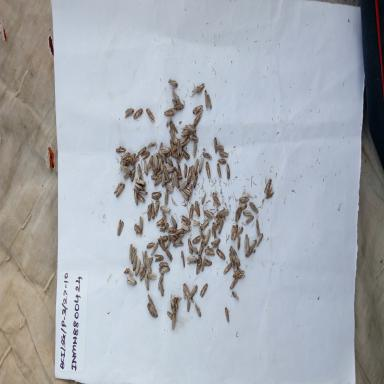pbw: (119, 151, 132, 166), (115, 218, 125, 237), (146, 105, 156, 124), (229, 245, 239, 263), (203, 226, 212, 246), (186, 163, 194, 185), (187, 180, 195, 202), (197, 240, 206, 259), (188, 282, 198, 299), (262, 177, 272, 194), (233, 266, 245, 280), (123, 106, 135, 120), (221, 262, 232, 277), (204, 161, 212, 181), (134, 258, 142, 278), (133, 222, 143, 238), (214, 206, 225, 220), (210, 237, 221, 251), (200, 216, 211, 230), (193, 200, 202, 217), (163, 166, 171, 185), (168, 128, 177, 144), (174, 164, 183, 180), (199, 282, 208, 298), (157, 234, 166, 250), (173, 236, 184, 249), (186, 255, 199, 266), (152, 151, 159, 171), (169, 214, 179, 228), (244, 246, 254, 260), (130, 152, 140, 166), (249, 199, 259, 213), (195, 257, 202, 277), (218, 217, 226, 234), (249, 237, 257, 254), (169, 119, 178, 134), (193, 112, 202, 127), (155, 216, 166, 228), (243, 214, 254, 226), (187, 132, 198, 144), (204, 247, 216, 258), (168, 232, 180, 243), (192, 103, 203, 115), (204, 208, 214, 221), (133, 108, 143, 121), (212, 191, 220, 207), (198, 225, 206, 241), (210, 222, 218, 238), (214, 214, 222, 230), (145, 256, 152, 274), (192, 169, 198, 190), (114, 178, 121, 196), (161, 211, 168, 229), (181, 146, 190, 160), (136, 164, 143, 182), (168, 225, 179, 236), (168, 77, 179, 88), (159, 204, 171, 214), (169, 148, 179, 160), (256, 233, 264, 248), (150, 190, 162, 200), (144, 272, 150, 292), (159, 222, 169, 234), (216, 248, 226, 260), (122, 164, 132, 176), (172, 91, 182, 103), (181, 213, 191, 225), (239, 192, 249, 204), (230, 254, 237, 271), (150, 242, 159, 255), (137, 145, 146, 158), (150, 202, 156, 221), (165, 248, 173, 262), (173, 174, 180, 190), (171, 300, 178, 316), (232, 224, 239, 240), (150, 303, 158, 317), (146, 303, 154, 317), (235, 208, 243, 222), (116, 184, 124, 198), (224, 306, 231, 322), (180, 134, 190, 145), (213, 134, 218, 156), (190, 245, 200, 256), (202, 150, 213, 160), (170, 97, 181, 107), (164, 183, 174, 194), (218, 209, 229, 219), (153, 253, 164, 263), (145, 240, 156, 250), (142, 250, 148, 268), (179, 179, 188, 191), (163, 188, 169, 206), (170, 172, 176, 190), (136, 192, 145, 204), (146, 273, 158, 282), (187, 238, 193, 256), (190, 85, 199, 97), (180, 249, 186, 267), (138, 214, 144, 232), (188, 201, 194, 219), (207, 92, 213, 110), (182, 185, 191, 197), (147, 155, 154, 170), (147, 202, 152, 223), (193, 158, 200, 173), (194, 302, 201, 317), (150, 162, 157, 177), (139, 268, 147, 281), (147, 294, 155, 307), (266, 187, 274, 200), (158, 264, 171, 272), (216, 161, 222, 178), (130, 164, 136, 181), (132, 254, 138, 271), (116, 145, 126, 155), (127, 276, 137, 286), (180, 190, 190, 200), (186, 123, 196, 133), (191, 164, 196, 184), (140, 150, 150, 160), (181, 223, 191, 233), (181, 124, 191, 134), (192, 235, 201, 246), (197, 82, 205, 94), (134, 178, 146, 186), (128, 150, 136, 162), (157, 272, 163, 288), (192, 141, 198, 157), (218, 151, 230, 159), (173, 102, 185, 110), (154, 200, 160, 216), (164, 109, 177, 116), (242, 208, 252, 217), (198, 158, 204, 173), (147, 140, 157, 149), (133, 187, 138, 205), (159, 158, 165, 173), (202, 258, 212, 267), (129, 244, 134, 262), (176, 152, 184, 163), (232, 290, 240, 301), (216, 157, 227, 165), (204, 87, 208, 109), (131, 247, 136, 264), (244, 234, 249, 251), (199, 193, 206, 205), (138, 263, 144, 277), (237, 225, 244, 237), (165, 156, 173, 166), (164, 166, 174, 174), (150, 172, 160, 180), (215, 144, 225, 152), (161, 170, 166, 186), (143, 159, 148, 175), (160, 234, 168, 244), (161, 147, 171, 155), (159, 280, 164, 296), (124, 268, 134, 276), (186, 301, 192, 314), (230, 277, 237, 288), (230, 222, 234, 241), (201, 256, 206, 271), (166, 114, 172, 126), (162, 152, 168, 164), (154, 178, 162, 187), (178, 138, 182, 156), (159, 260, 168, 268), (226, 162, 230, 180), (170, 294, 175, 308), (170, 145, 177, 155), (236, 235, 240, 252), (158, 141, 162, 157), (192, 220, 200, 228), (184, 163, 188, 179), (174, 296, 182, 304), (167, 310, 174, 319), (237, 204, 246, 211), (175, 227, 184, 234), (138, 190, 148, 196), (181, 129, 188, 137), (256, 218, 260, 232), (172, 314, 176, 328), (166, 236, 171, 247)
